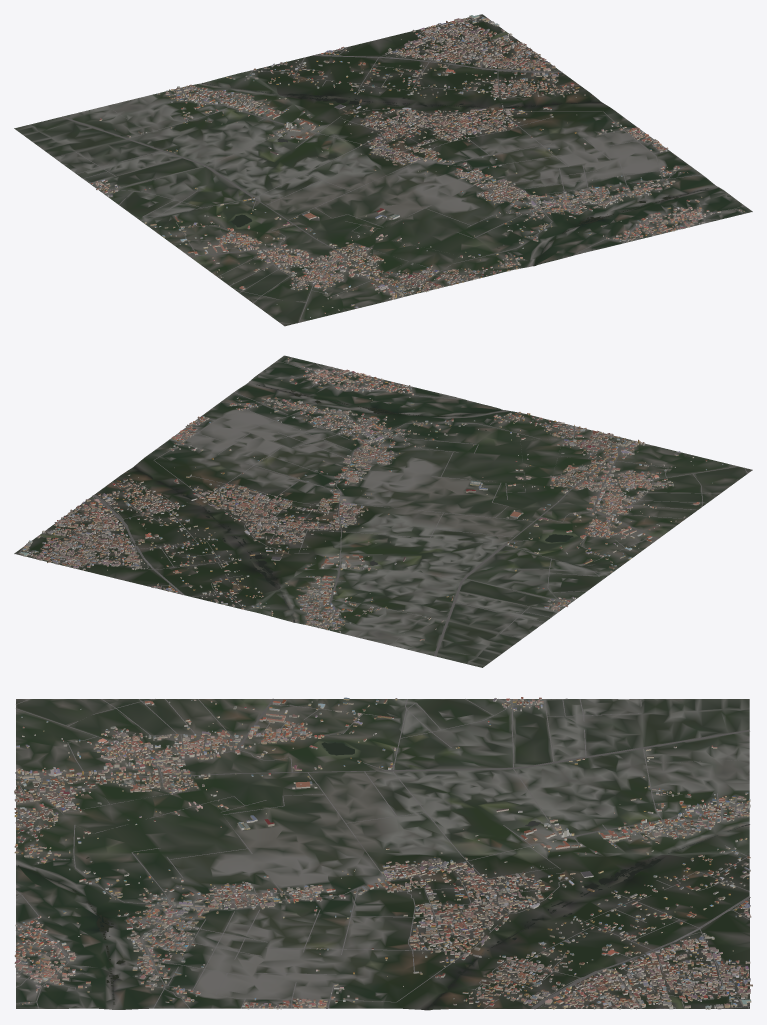
The picture shows the model from 3 angles, top to bottom: view 1: azimuth 30°, elevation 25°; view 2: azimuth 150°, elevation 25°; view 3: azimuth 270°, elevation 25°; orthographic projection. The views are drawn at different scales.
Visible parts, largest first — view 1: ground, buildings, roads, water; view 2: ground, buildings, roads, water; view 3: ground, buildings, roads, water.
Boxes of the visible parts, bbox=[...] form: ground: bbox=[14, 14, 752, 326]; buildings: bbox=[91, 15, 744, 317]; roads: bbox=[54, 14, 744, 324]; water: bbox=[202, 83, 708, 265]; ground: bbox=[14, 355, 752, 667]; buildings: bbox=[19, 358, 723, 640]; roads: bbox=[14, 357, 748, 656]; water: bbox=[133, 384, 573, 622]; ground: bbox=[16, 699, 749, 1010]; buildings: bbox=[14, 697, 752, 1009]; roads: bbox=[15, 698, 750, 1009]; water: bbox=[18, 742, 749, 1009].
Bounding box in the file's own units: 2817 × 35.16 × 2823.
